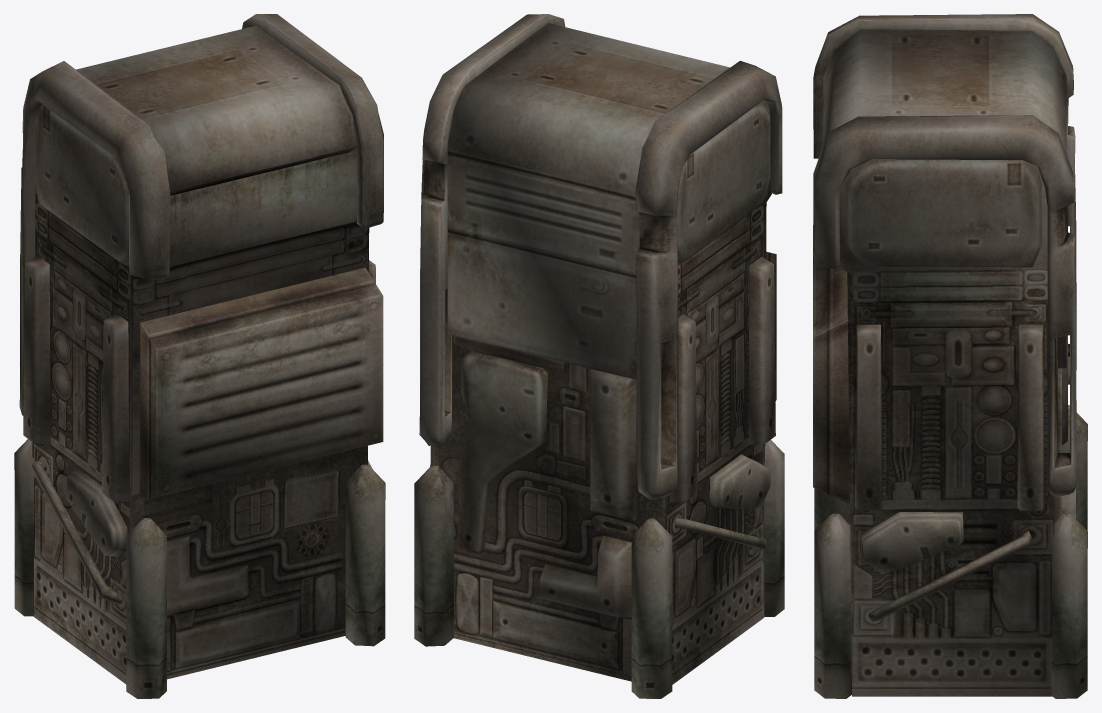
File: server_medium_pplant.dae
3 views of the same model, side by side, from view 1: azimuth 30°, elevation 25°; view 2: azimuth 150°, elevation 25°; view 3: azimuth 270°, elevation 25° (orthographic). The views are drawn at different scales.
Visible parts, largest first — view 1: server_robot_medium; view 2: server_robot_medium; view 3: server_robot_medium.
Boxes of the visible parts, <box> form: server_robot_medium: <box>14,14,385,698</box>; server_robot_medium: <box>414,14,784,698</box>; server_robot_medium: <box>813,14,1087,698</box>.
Size of the model in its own units: 1.25 by 2.51 by 1.1.
